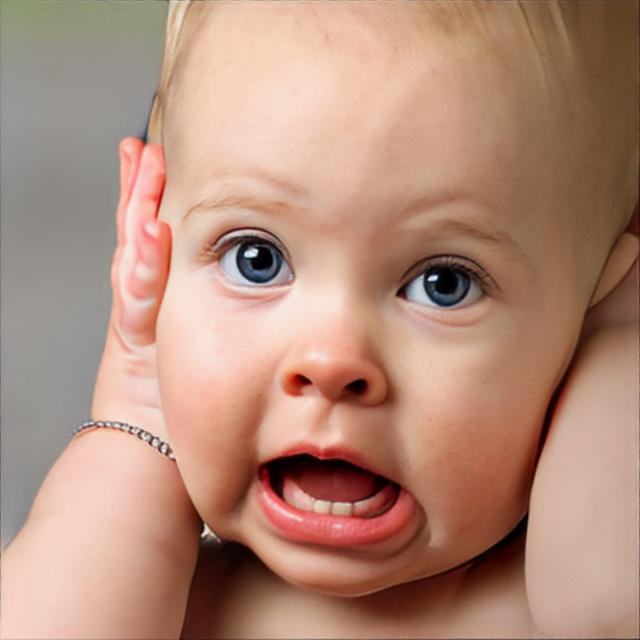fear: (155, 0, 640, 597)
